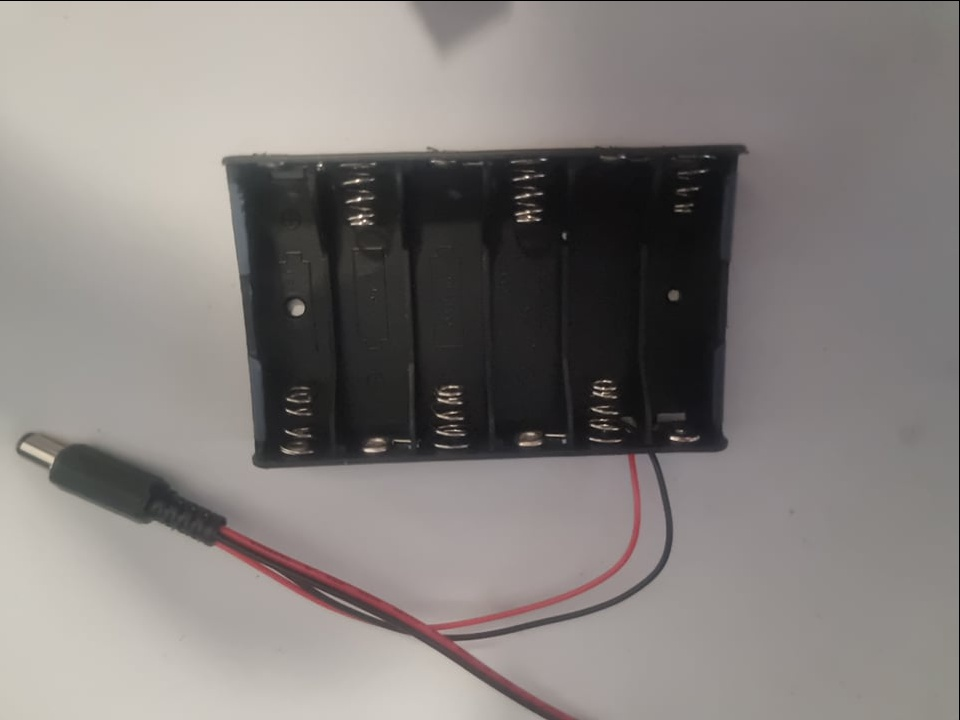BATTERY BOX: (222, 141, 746, 469)
